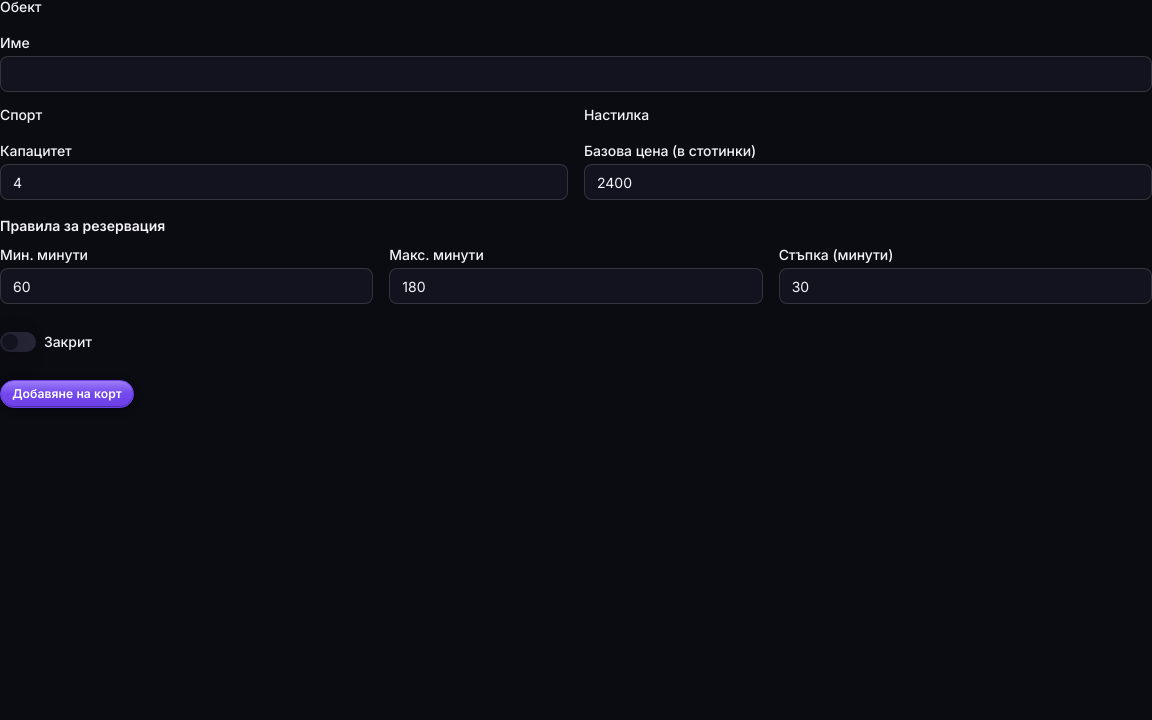
Test case: squash and karting on the courts screen (P51) › the sport choice offers both, by their Bulgarian names
Step 1. Click the button named "Спорт, Падел" → (21, 115), box [0, 108, 42, 122]
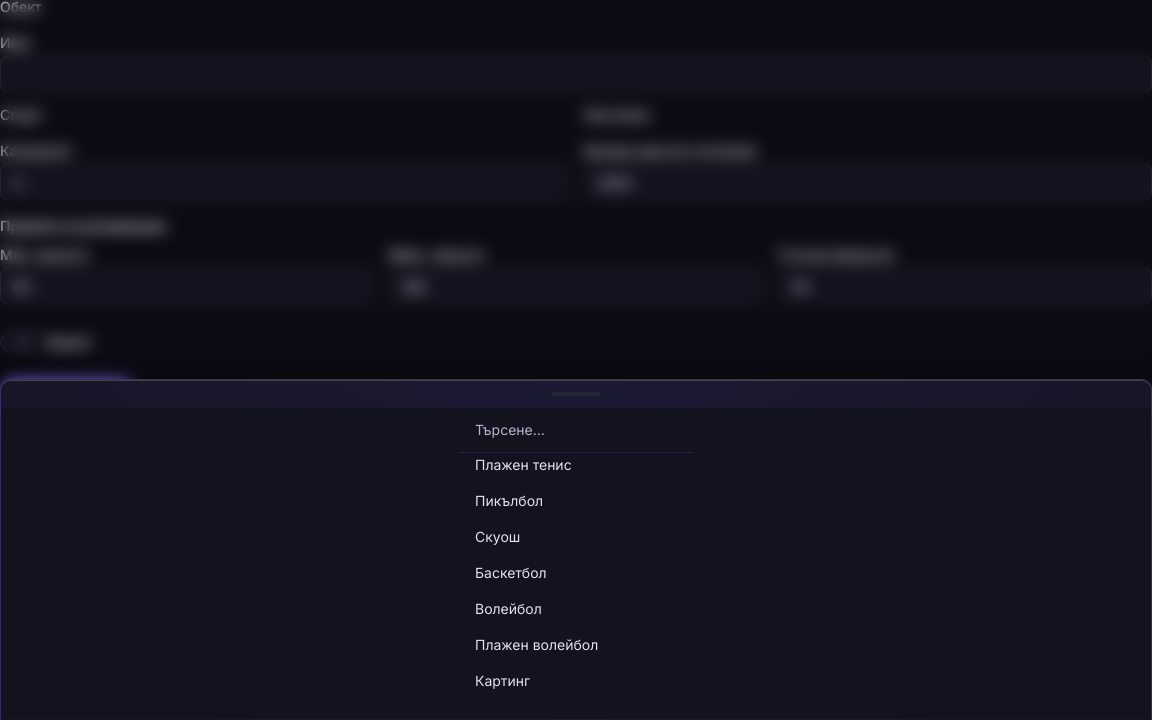
Now the option "Скуош" is shown, box [475, 528, 520, 545]
Now the option "Картинг" is shown, box [475, 672, 530, 689]
